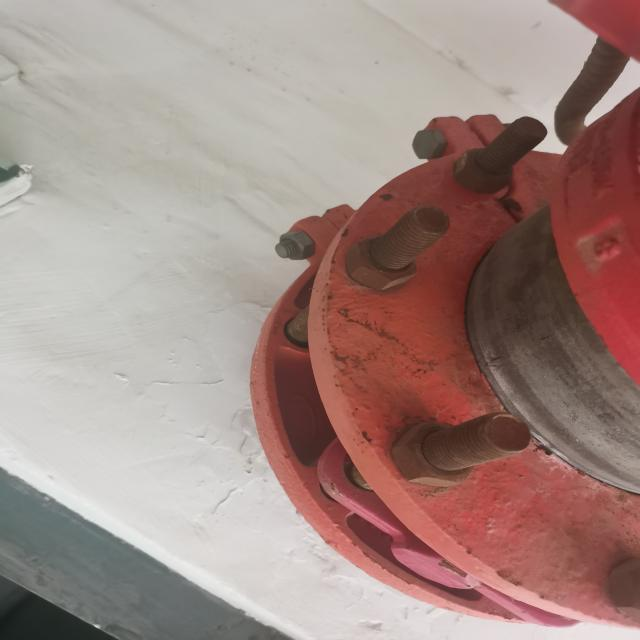bolt head: (408, 127, 449, 162)
bolt nut: (386, 416, 484, 491), (342, 232, 422, 292), (452, 145, 516, 196), (275, 228, 317, 263)
